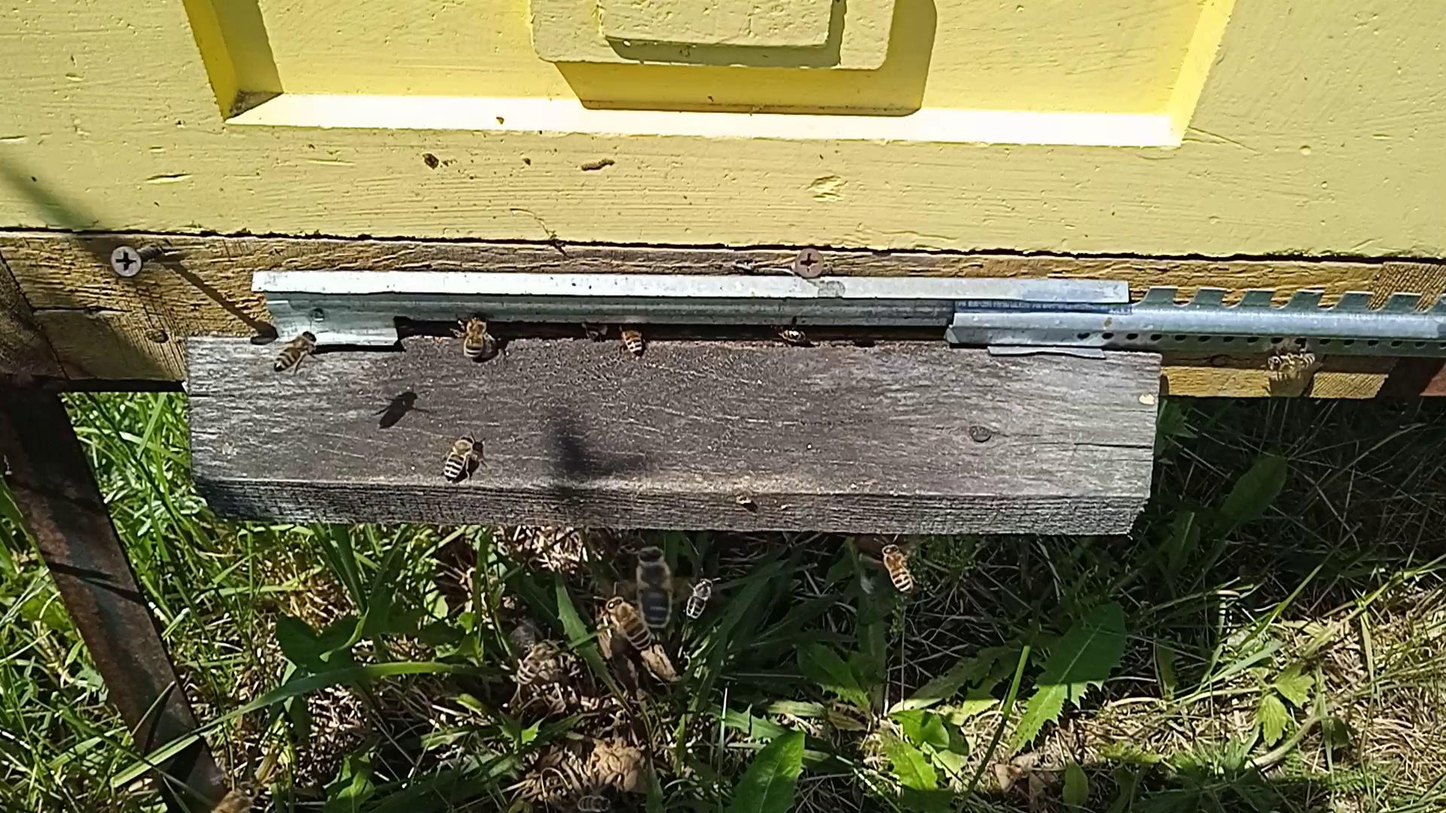worker-bee: (633, 544, 677, 632), (602, 593, 652, 653), (515, 637, 560, 684), (272, 329, 319, 373), (442, 433, 482, 483), (200, 781, 261, 813), (457, 312, 494, 361), (880, 541, 914, 593), (682, 574, 716, 621), (1267, 351, 1319, 379), (617, 323, 648, 357), (570, 790, 615, 813), (770, 324, 808, 345), (580, 322, 611, 340)
